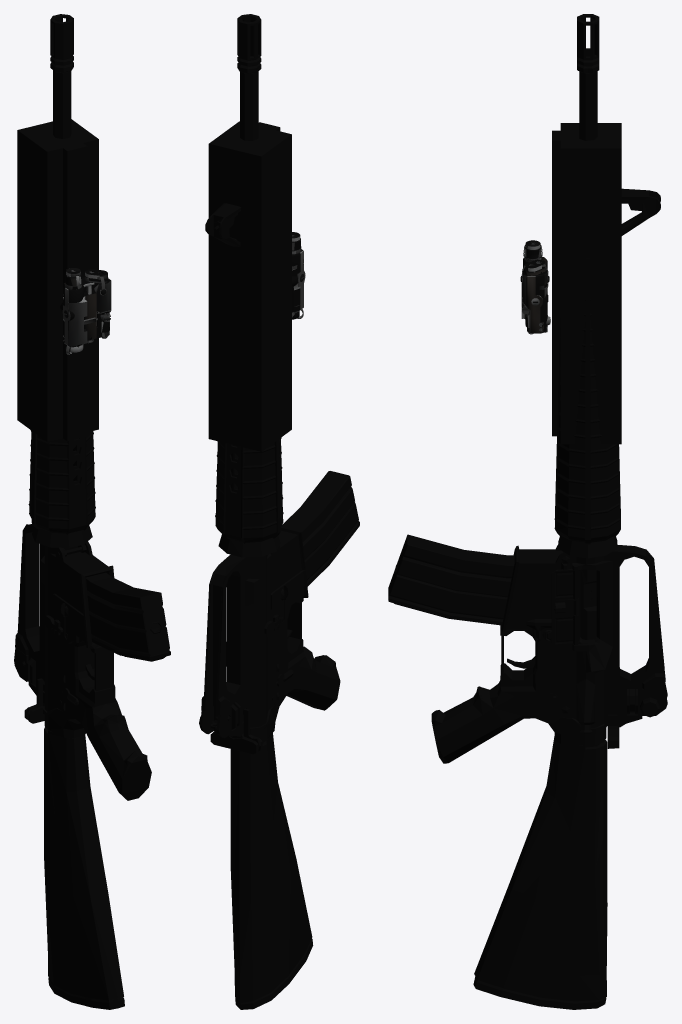
Rendered from M16A2__Handguard_AR_Quad__Laser_Rifle.fbx.
3 renders of one model, left to right at view 1: azimuth 30°, elevation 25°; view 2: azimuth 150°, elevation 25°; view 3: azimuth 270°, elevation 25°, orthographic.
Parts seen in each view (by area): view 1: asset_M16A2.001; view 2: asset_M16A2.001; view 3: asset_M16A2.001.
Part boxes in pixels (box(x1,y1,x2,y2)): asset_M16A2.001: box(14, 14, 170, 1009); asset_M16A2.001: box(199, 14, 359, 1009); asset_M16A2.001: box(388, 14, 667, 1009).
Bounding box in the file's own units: 0.0384 × 0.6 × 0.1542.
